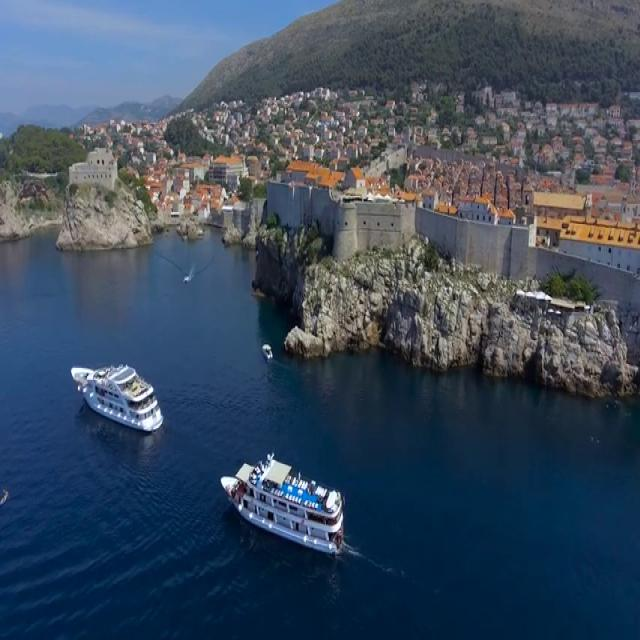houseboat: (258, 341, 273, 361), (182, 272, 192, 284)
passenger ship: (219, 456, 347, 554), (70, 362, 161, 434)
